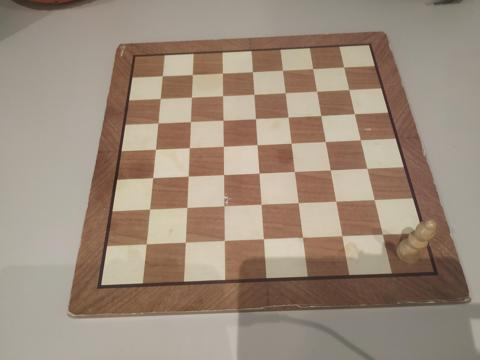xcorner: (152, 117, 163, 128), (139, 239, 150, 250), (184, 115, 195, 126), (217, 140, 228, 151), (217, 169, 228, 180), (217, 201, 228, 212), (255, 199, 266, 210), (277, 64, 288, 75), (307, 62, 318, 73), (320, 135, 331, 146), (325, 164, 336, 175), (337, 231, 348, 242), (369, 194, 380, 205), (149, 144, 160, 154), (146, 173, 157, 183), (143, 204, 153, 215), (186, 91, 196, 102), (183, 142, 194, 152), (178, 238, 189, 248), (217, 67, 227, 78), (218, 236, 228, 247), (248, 88, 259, 98), (250, 112, 260, 123), (251, 139, 262, 149), (253, 168, 264, 178), (257, 235, 268, 245), (280, 86, 290, 97), (289, 166, 300, 176), (297, 233, 308, 243), (311, 85, 322, 95), (331, 196, 341, 207), (343, 83, 354, 93), (349, 107, 359, 118), (355, 134, 366, 144), (362, 162, 372, 173), (377, 230, 388, 240), (157, 71, 167, 81), (155, 93, 165, 103), (187, 69, 197, 79), (182, 171, 192, 181), (180, 203, 190, 213), (217, 90, 227, 100), (217, 114, 227, 124), (247, 66, 257, 76), (283, 111, 293, 121), (286, 137, 296, 147), (293, 198, 303, 208), (316, 109, 326, 119), (338, 61, 348, 71)
